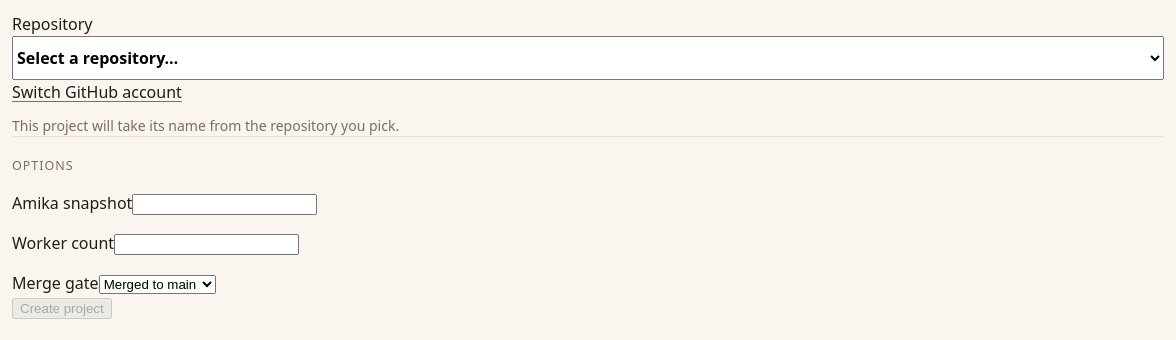
it: ProjectFields — create mode › states where the name will come from, then names it
Select "acme/demo" in the dropdown labelled "Repository" at (588, 58), box [12,36,1164,80]
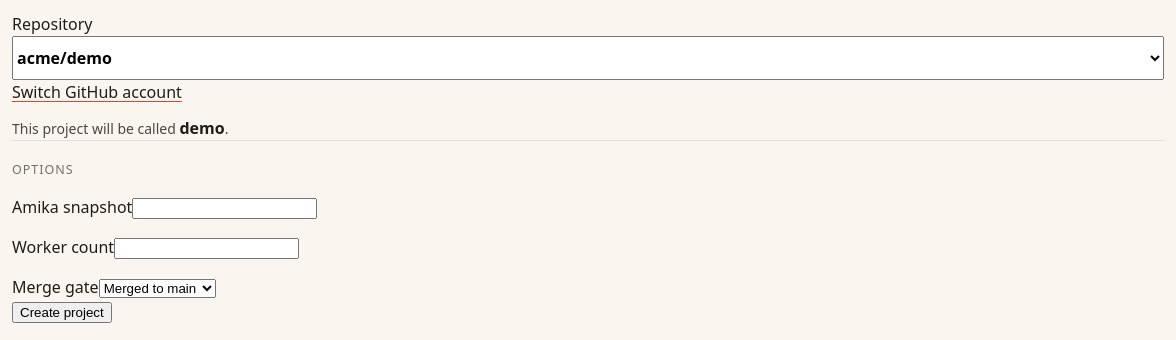
Result: the text "demo" is shown at [180,117,225,139]
